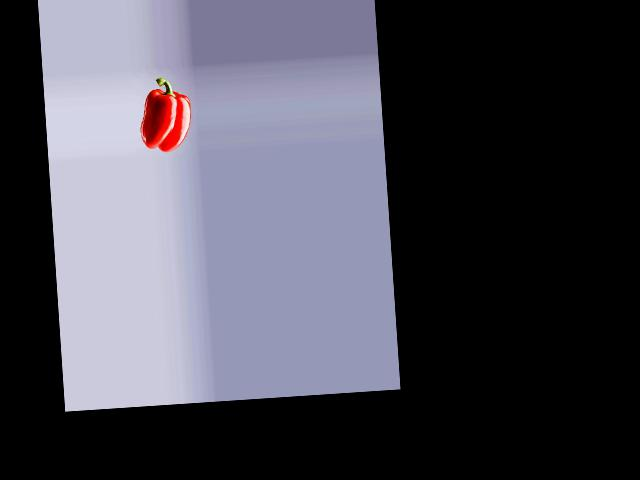bell_pepper: (136, 75, 195, 151)
